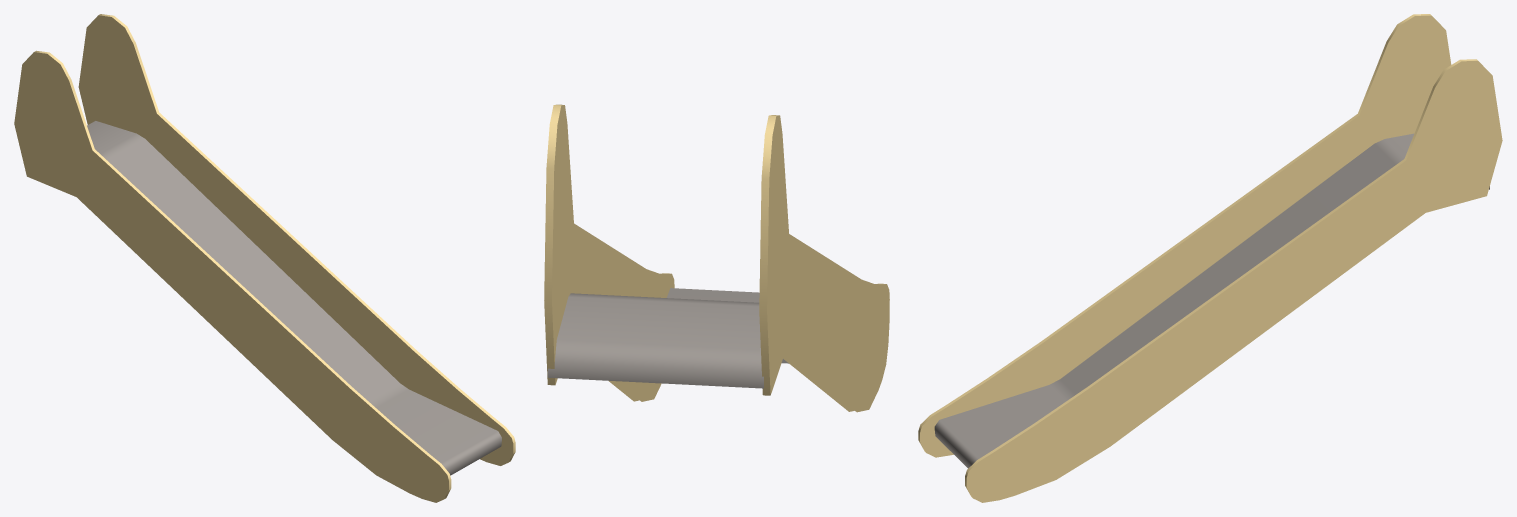
Rendered from SlideTunnel_Slide.fbx.
3 views of the same model, side by side, from view 1: azimuth 30°, elevation 25°; view 2: azimuth 150°, elevation 25°; view 3: azimuth 270°, elevation 25° (orthographic). The views are drawn at different scales.
Visible parts, largest first — view 1: SlideTunnel_Slide; view 2: SlideTunnel_Slide; view 3: SlideTunnel_Slide.
Part boxes in pixels (box(x1,y1,x2,y2)): SlideTunnel_Slide: box(14, 14, 515, 502); SlideTunnel_Slide: box(544, 104, 889, 412); SlideTunnel_Slide: box(918, 14, 1502, 502).
Size of the model in its own units: 188 by 214 by 320.
